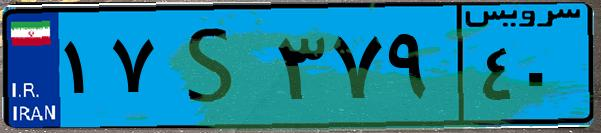0: (525, 38, 570, 115)
1: (57, 26, 110, 100)
3: (270, 28, 330, 110)
4: (475, 38, 525, 113)
7: (330, 28, 385, 110), (110, 28, 158, 98)
9: (385, 28, 445, 110)
S: (158, 12, 270, 120)
